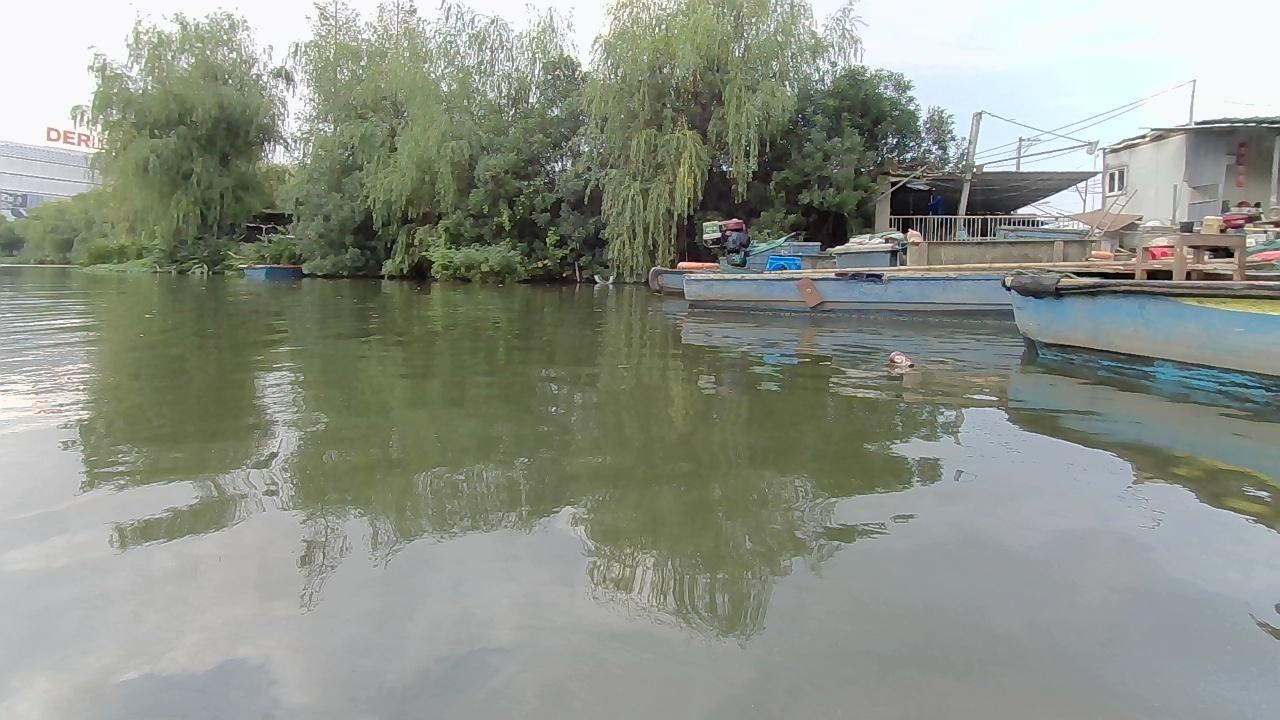bottle: (886, 347, 919, 373)
